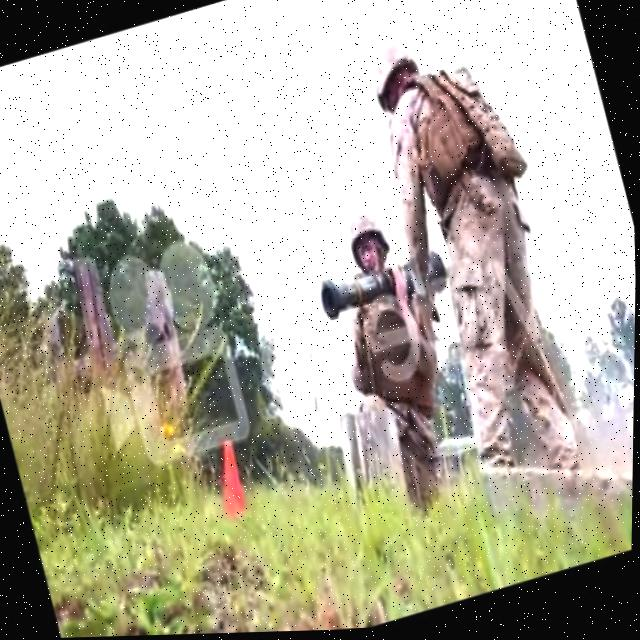rocket: (314, 245, 451, 321)
